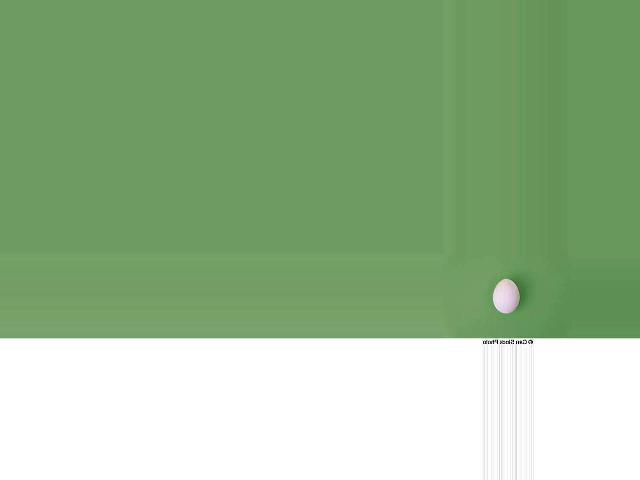egg: (492, 279, 519, 313)
